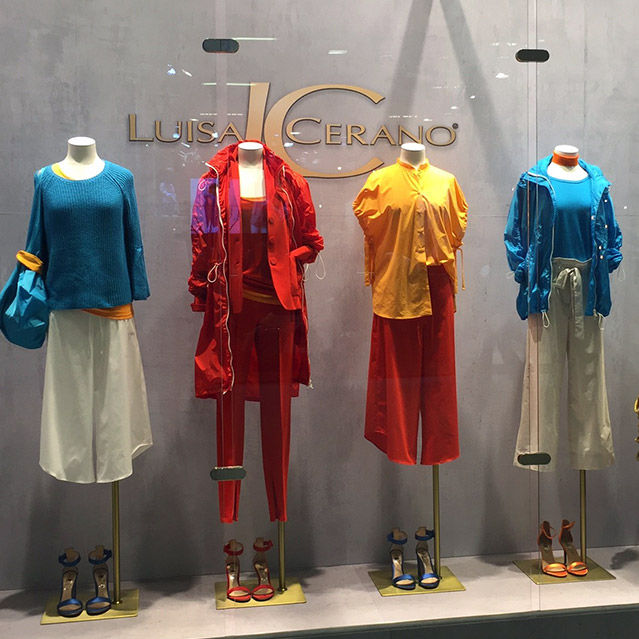person-like: (8, 127, 159, 616), (183, 134, 330, 608), (495, 137, 630, 583), (344, 136, 475, 591)
